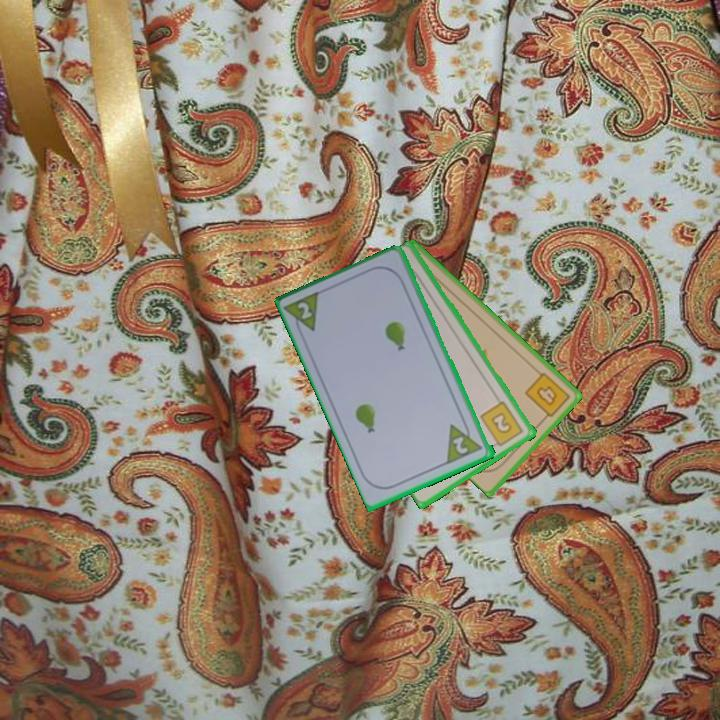2b: (477, 398, 526, 451)
2p: (449, 433, 472, 457), (294, 298, 316, 323)
4b: (521, 369, 573, 424)
